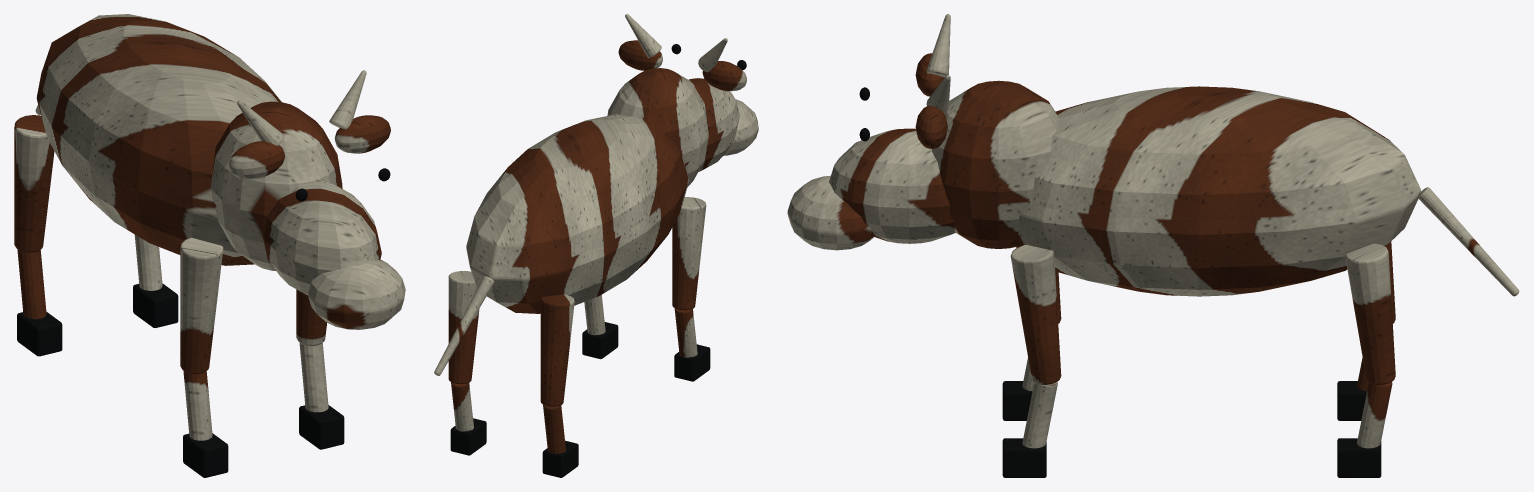
Rendered from PROP-ECF0E30EE86E_lod0.glb.
3 renders of one model, left to right at view 1: azimuth 30°, elevation 25°; view 2: azimuth 150°, elevation 25°; view 3: azimuth 270°, elevation 25°, orthographic. The views are drawn at different scales.
Visible parts, largest first — view 1: animal_torso.002, upper_leg.002, animal_neck.002, animal_head.002, hoof.002, lower_leg.002, muzzle.002, animal_ears.002, horn.002; view 2: animal_torso.002, upper_leg.002, animal_neck.002, hoof.002, lower_leg.002, animal_head.002, animal_ears.002, tail.002, horn.002, muzzle.002; view 3: animal_torso.002, animal_neck.002, upper_leg.002, animal_head.002, hoof.002, muzzle.002, lower_leg.002, tail.002, animal_ears.002, horn.002.
Boxes of the visible parts, x1=… form: animal_torso.002: x1=36, y1=14, x2=281, y2=265; upper_leg.002: x1=14, y1=115, x2=326, y2=374; animal_neck.002: x1=211, y1=101, x2=342, y2=270; animal_head.002: x1=262, y1=180, x2=381, y2=295; hoof.002: x1=17, y1=283, x2=344, y2=477; lower_leg.002: x1=17, y1=234, x2=328, y2=440; muzzle.002: x1=308, y1=259, x2=405, y2=329; animal_ears.002: x1=229, y1=115, x2=390, y2=179; horn.002: x1=237, y1=70, x2=366, y2=145; animal_torso.002: x1=466, y1=114, x2=688, y2=313; upper_leg.002: x1=448, y1=197, x2=706, y2=406; animal_neck.002: x1=607, y1=68, x2=708, y2=187; hoof.002: x1=450, y1=322, x2=710, y2=477; lower_leg.002: x1=451, y1=295, x2=697, y2=453; animal_head.002: x1=688, y1=78, x2=739, y2=171; animal_ears.002: x1=618, y1=40, x2=746, y2=91; tail.002: x1=434, y1=276, x2=494, y2=375; horn.002: x1=625, y1=14, x2=727, y2=72; muzzle.002: x1=723, y1=99, x2=758, y2=155; animal_torso.002: x1=1010, y1=86, x2=1421, y2=296; animal_neck.002: x1=932, y1=80, x2=1058, y2=248; upper_leg.002: x1=1010, y1=241, x2=1395, y2=384; animal_head.002: x1=829, y1=128, x2=955, y2=243; hoof.002: x1=1002, y1=381, x2=1381, y2=477; muzzle.002: x1=787, y1=175, x2=873, y2=250; lower_leg.002: x1=1022, y1=358, x2=1392, y2=448; tail.002: x1=1418, y1=187, x2=1519, y2=296; animal_ears.002: x1=915, y1=53, x2=947, y2=148; horn.002: x1=926, y1=14, x2=950, y2=113.
Size of the model in its own units: 0.7 by 1.5 by 2.49.
Materials: 3 (3 with a texture image).
